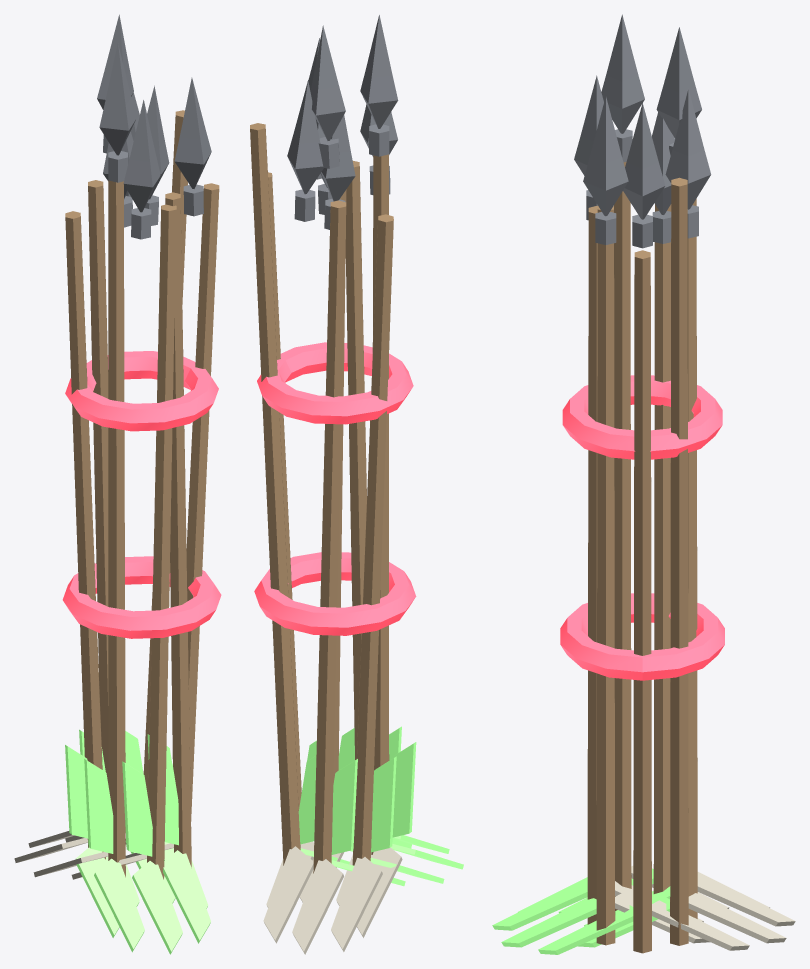
The model's file is pickups-and-collectibles-arrow-bundle-3b93e5f5__19907.glb.
3 views of the same model, side by side, from view 1: azimuth 30°, elevation 25°; view 2: azimuth 150°, elevation 25°; view 3: azimuth 270°, elevation 25° (orthographic). The views are drawn at different scales.
Parts seen in each view (by area): view 1: body/timber, body/verdant, body/ruby, body/iron, body/bone; view 2: body/timber, body/ruby, body/iron, body/verdant, body/bone; view 3: body/timber, body/iron, body/ruby, body/bone, body/verdant.
Boxes of the visible parts, <box> form: body/timber: <box>65,110,219,879</box>; body/verdant: <box>65,729,210,954</box>; body/ruby: <box>62,351,221,638</box>; body/iron: <box>97,14,211,239</box>; body/bone: <box>14,831,173,879</box>; body/timber: <box>250,123,393,873</box>; body/ruby: <box>254,342,416,635</box>; body/iron: <box>287,15,398,229</box>; body/verdant: <box>298,726,463,886</box>; body/bone: <box>263,841,402,954</box>; body/timber: <box>587,162,697,953</box>; body/iron: <box>574,14,711,248</box>; body/ruby: <box>560,375,724,680</box>; body/bone: <box>615,866,795,950</box>; body/verdant: <box>492,868,670,954</box>.
Size of the model in its own units: 0.1335 by 0.7575 by 0.2261.
